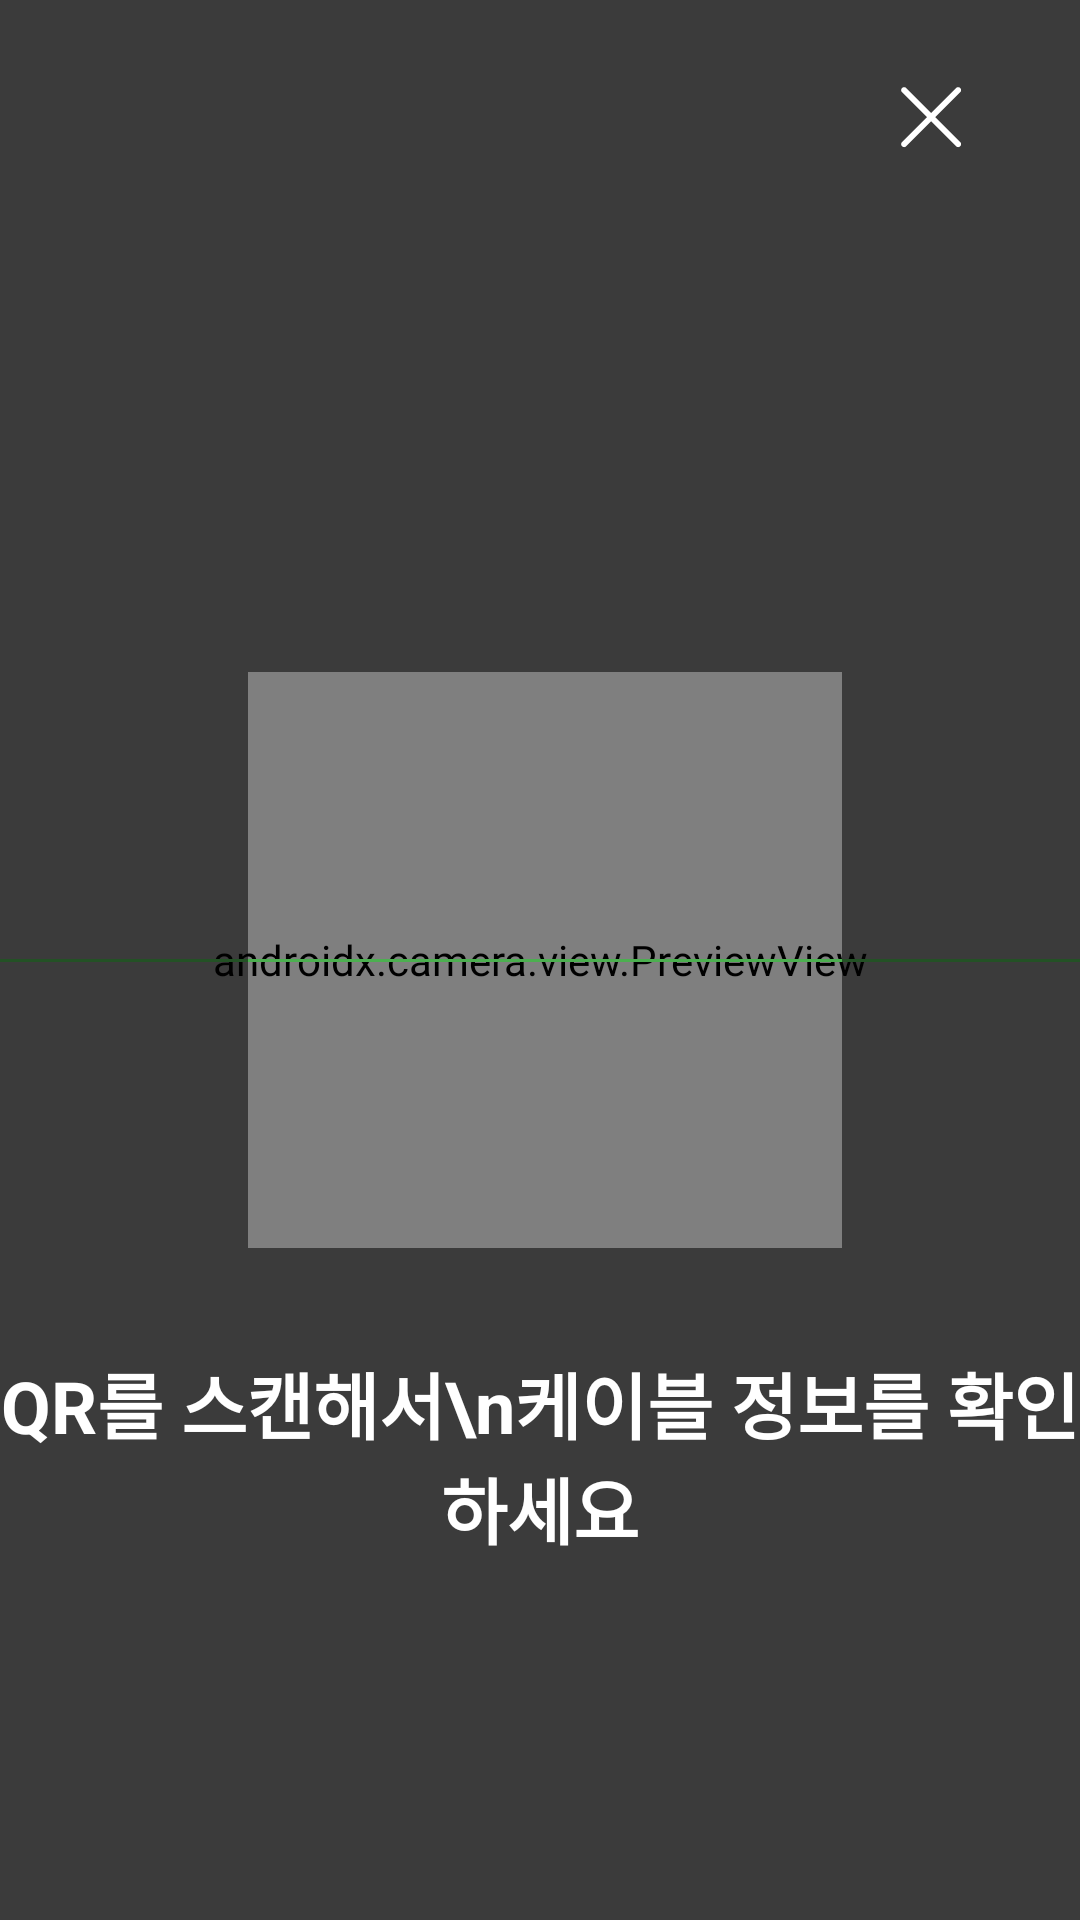

Icons on this 1080 x 1920 Android screen, each with its box as (x1, y1, x2, y2):
close: (901, 87, 961, 147)
